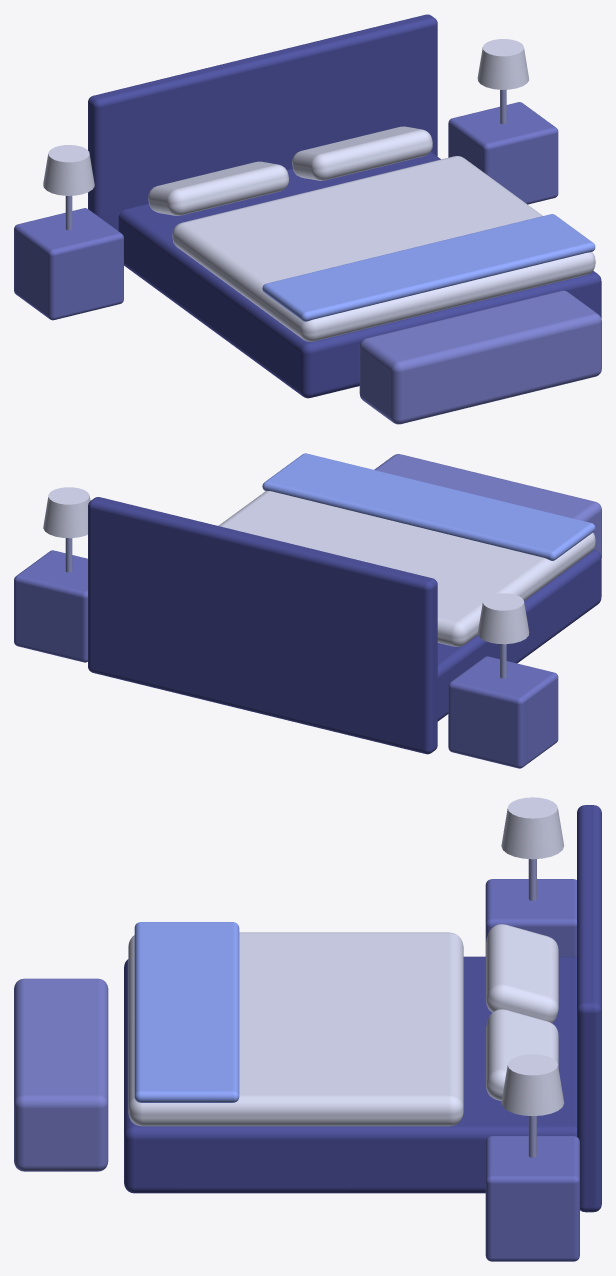
The model's file is bedModern.glb.
The picture shows the model from 3 angles, top to bottom: view 1: azimuth 30°, elevation 25°; view 2: azimuth 150°, elevation 25°; view 3: azimuth 270°, elevation 25°; orthographic projection. The views are drawn at different scales.
Parts seen in each view (by area): view 1: headboard, duvet, bench, base, throw, nightstand0, pillow (×2), nightstand1, lamp0, lamp1; view 2: headboard, duvet, throw, nightstand0, nightstand1, base, bench, lamp0, lamp1; view 3: duvet, base, throw, bench, nightstand1, pillow (×2), headboard, nightstand0, lamp1, lamp0.
Boxes of the visible parts, x1=… form: headboard: x1=88, y1=14, x2=437, y2=230; duvet: x1=172, y1=156, x2=595, y2=341; bench: x1=359, y1=290, x2=601, y2=424; base: x1=118, y1=152, x2=601, y2=398; throw: x1=262, y1=214, x2=595, y2=321; nightstand0: x1=14, y1=208, x2=123, y2=320; pillow (×2): x1=148, y1=126, x2=432, y2=215; nightstand1: x1=448, y1=102, x2=558, y2=204; lamp0: x1=43, y1=145, x2=94, y2=230; lamp1: x1=477, y1=39, x2=529, y2=124; headboard: x1=88, y1=497, x2=437, y2=754; duvet: x1=218, y1=491, x2=595, y2=646; throw: x1=262, y1=453, x2=595, y2=560; nightstand0: x1=448, y1=656, x2=558, y2=768; nightstand1: x1=14, y1=550, x2=87, y2=662; base: x1=437, y1=549, x2=601, y2=721; bench: x1=374, y1=454, x2=601, y2=557; lamp0: x1=477, y1=593, x2=529, y2=678; lamp1: x1=43, y1=487, x2=90, y2=572; duvet: x1=128, y1=932, x2=463, y2=1126; base: x1=124, y1=956, x2=576, y2=1193; throw: x1=134, y1=922, x2=239, y2=1102; bench: x1=14, y1=978, x2=108, y2=1171; nightstand1: x1=485, y1=1136, x2=579, y2=1261; pillow (×2): x1=486, y1=924, x2=558, y2=1100; headboard: x1=577, y1=805, x2=601, y2=1212; nightstand0: x1=485, y1=879, x2=576, y2=956; lamp1: x1=501, y1=1054, x2=564, y2=1157; lamp0: x1=501, y1=797, x2=564, y2=900.
Size of the model in its own units: 3.4 by 1.1 by 2.8.
